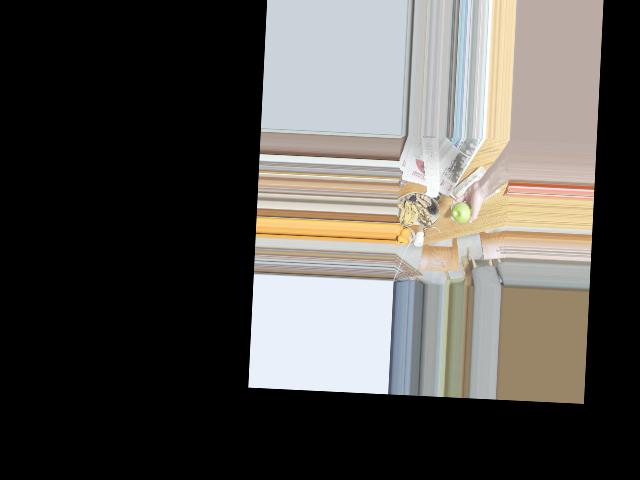apple: (451, 200, 471, 223)
